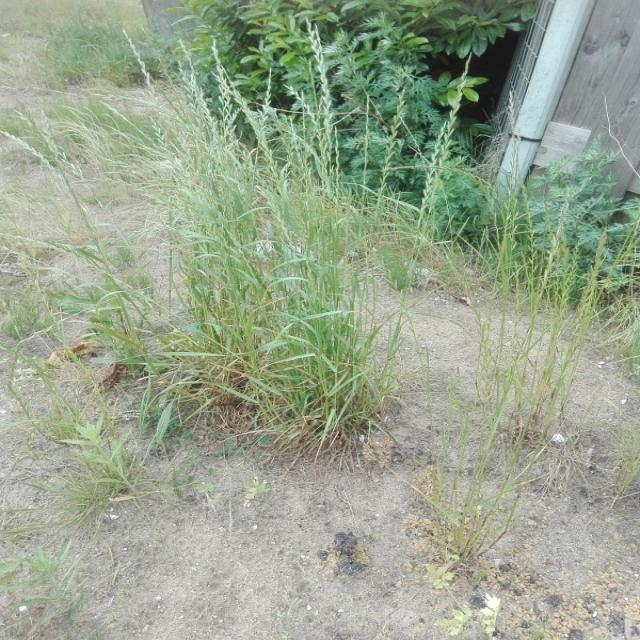Lolium: (412, 50, 469, 238), (301, 35, 348, 211), (525, 208, 569, 334), (122, 30, 168, 146), (210, 42, 240, 181), (502, 90, 524, 250), (377, 87, 406, 199), (43, 114, 81, 180), (0, 131, 57, 175), (288, 120, 308, 180), (258, 68, 274, 133)
